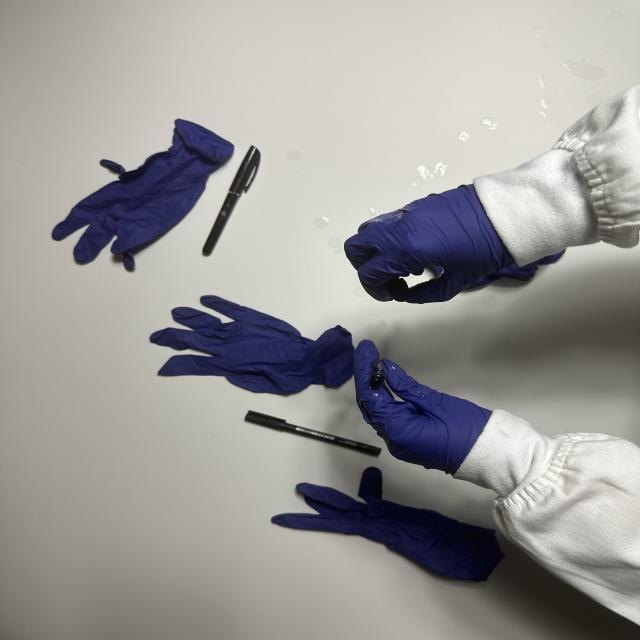gloves_contaminated: (345, 185, 514, 304), (356, 343, 491, 474)
